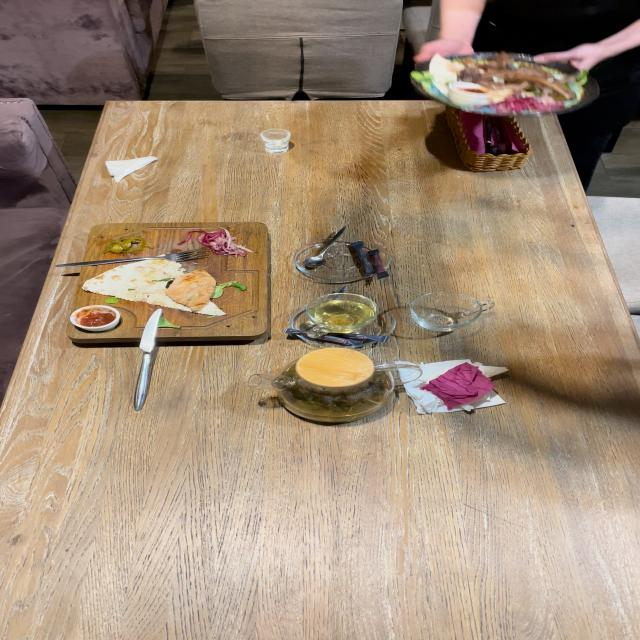bone-in steak: (465, 63, 574, 101)
flatbread: (123, 264, 220, 310)
plate: (417, 48, 606, 119)
shot: (258, 127, 298, 156)
tea: (246, 346, 427, 425)
wooden board: (66, 221, 278, 344)
